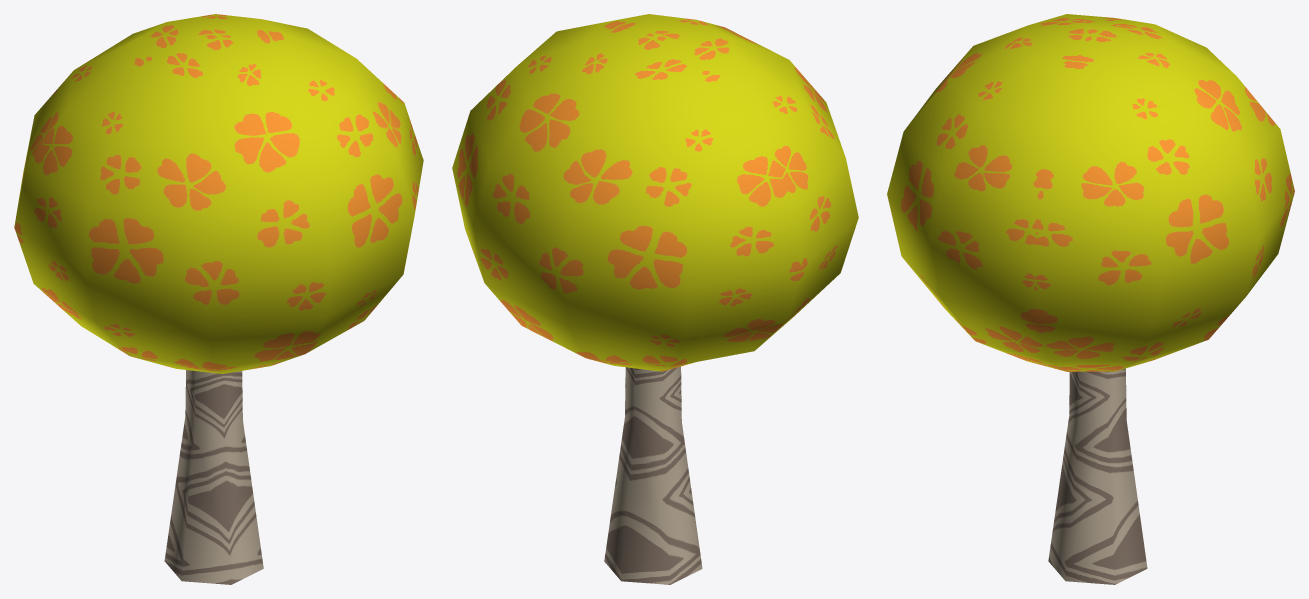
The model's file is S_Tree_B.fbx.
3 renders of one model, left to right at view 1: azimuth 30°, elevation 25°; view 2: azimuth 150°, elevation 25°; view 3: azimuth 270°, elevation 25°, orthographic.
Visible parts, largest first — view 1: S_Tree_B_m; view 2: S_Tree_B_m; view 3: S_Tree_B_m.
Boxes of the visible parts, x1,y1,x2,y2 form: S_Tree_B_m: (14,14,423,584); S_Tree_B_m: (452,14,858,584); S_Tree_B_m: (887,14,1294,584).
Size of the model in its own units: 18.14 by 26.12 by 18.17.
